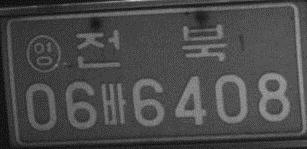0: (214, 74, 248, 124), (25, 81, 56, 131)
4: (173, 75, 207, 127)
6: (131, 78, 165, 128), (64, 81, 96, 130)
8: (256, 71, 290, 123)
바: (99, 81, 128, 126)
영: (24, 33, 62, 74)
전북_D: (74, 23, 227, 70)
